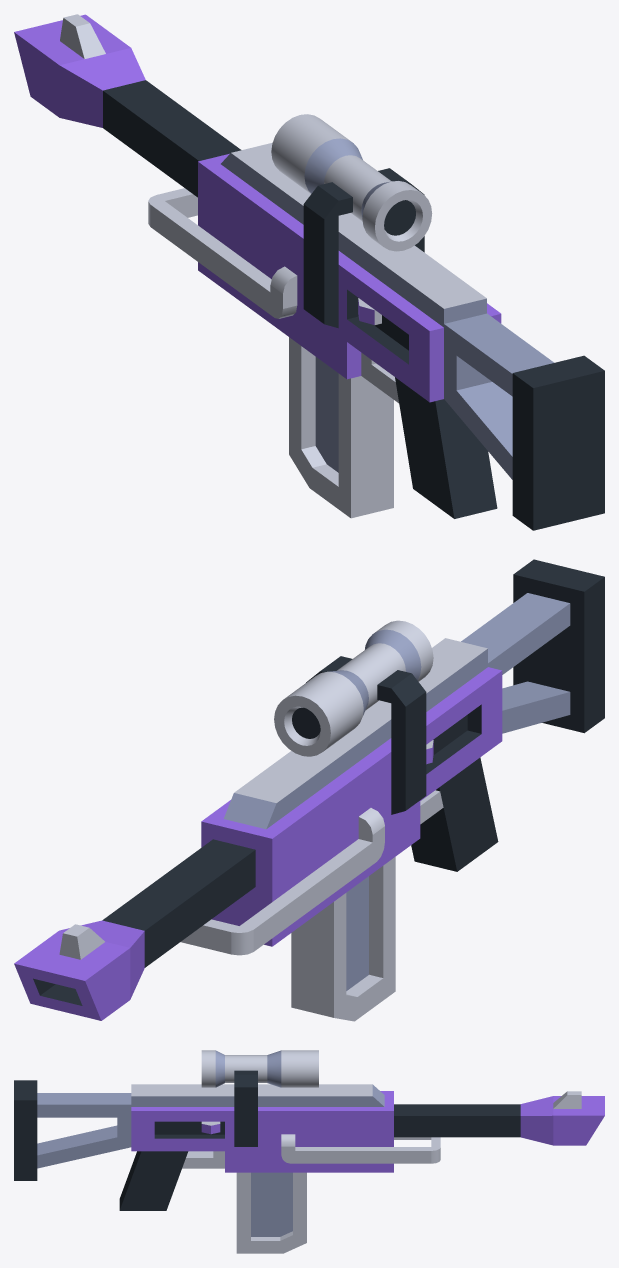
File: blasterF.fbx
3 views of the same model, one above another, from view 1: azimuth 30°, elevation 25°; view 2: azimuth 150°, elevation 25°; view 3: azimuth 270°, elevation 25° (orthographic). The views are drawn at different scales.
Parts seen in each view (by area): view 1: blasterF; view 2: blasterF; view 3: blasterF.
Boxes of the visible parts, box(x1,y1,x2,y2) form: blasterF: box(14, 14, 604, 530); blasterF: box(14, 559, 604, 1021); blasterF: box(14, 1050, 604, 1253).
Size of the model in its own units: 1.4 by 4.6 by 12.6.
